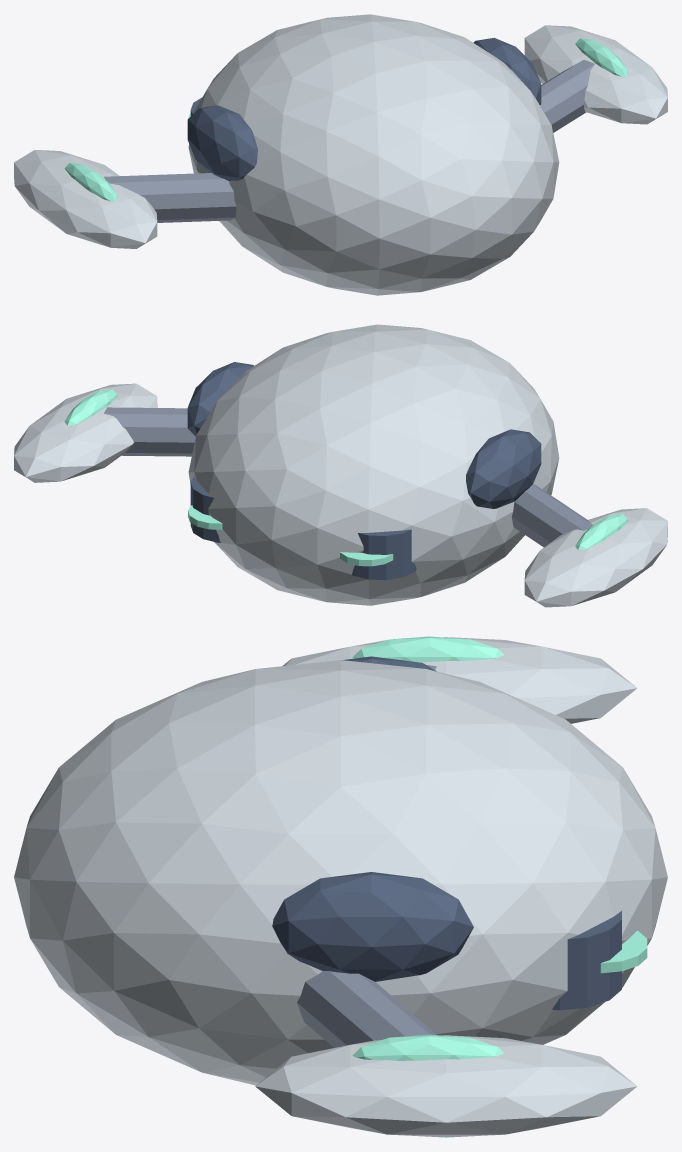
Rendered from npc_sibelon.glb.
3 renders of one model, top to bottom at view 1: azimuth 30°, elevation 25°; view 2: azimuth 150°, elevation 25°; view 3: azimuth 270°, elevation 25°, orthographic. The views are drawn at different scales.
Parts seen in each view (by area): view 1: hull, wing_armor_-1, wing_armor_1, wingframe_-1, shield_pod_-1, wingframe_1, shield_pod_1, wing_energy_-1, wing_energy_1; view 2: hull, wing_armor_-1, wing_armor_1, shield_pod_-1, wingframe_1, wingframe_-1, engine_-1, shield_pod_1, wing_energy_1, wing_energy_-1, engine_1, engine_light_-1 (+1 smaller); view 3: hull, wing_armor_1, shield_pod_1, wing_armor_-1, wingframe_1, engine_1, wing_energy_1, wing_energy_-1, engine_light_1.
Part boxes in pixels (box(x1,y1,x2,y2)): hull: box(188, 14, 559, 295); wing_armor_-1: box(14, 150, 157, 248); wing_armor_1: box(524, 25, 667, 124); wingframe_-1: box(104, 173, 236, 222); shield_pod_-1: box(187, 105, 257, 180); wingframe_1: box(540, 59, 594, 132); shield_pod_1: box(473, 37, 541, 104); wing_energy_-1: box(64, 163, 117, 201); wing_energy_1: box(575, 38, 627, 77); hull: box(188, 324, 559, 605); wing_armor_-1: box(524, 508, 667, 607); wing_armor_1: box(14, 383, 157, 482); shield_pod_-1: box(466, 429, 541, 508); wingframe_1: box(104, 407, 195, 456); wingframe_-1: box(511, 484, 592, 547); engine_-1: box(352, 529, 416, 579); shield_pod_1: box(187, 362, 253, 436); wing_energy_1: box(64, 389, 117, 425); wing_energy_-1: box(575, 513, 627, 550); engine_1: box(190, 476, 220, 542); engine_light_-1: box(340, 552, 393, 566); hull: box(14, 660, 667, 1085); wing_armor_1: box(255, 1035, 637, 1137); shield_pod_1: box(272, 872, 473, 981); wing_armor_-1: box(283, 637, 637, 723); wingframe_1: box(297, 971, 436, 1047); engine_1: box(552, 911, 621, 1010); wing_energy_1: box(352, 1034, 503, 1060); wing_energy_-1: box(352, 636, 503, 662); engine_light_1: box(600, 930, 647, 973).
Size of the model in its own units: 4.02 by 1.44 by 2.36.
